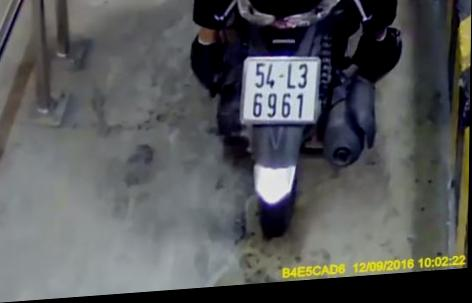License_Plate: (232, 48, 325, 135)
